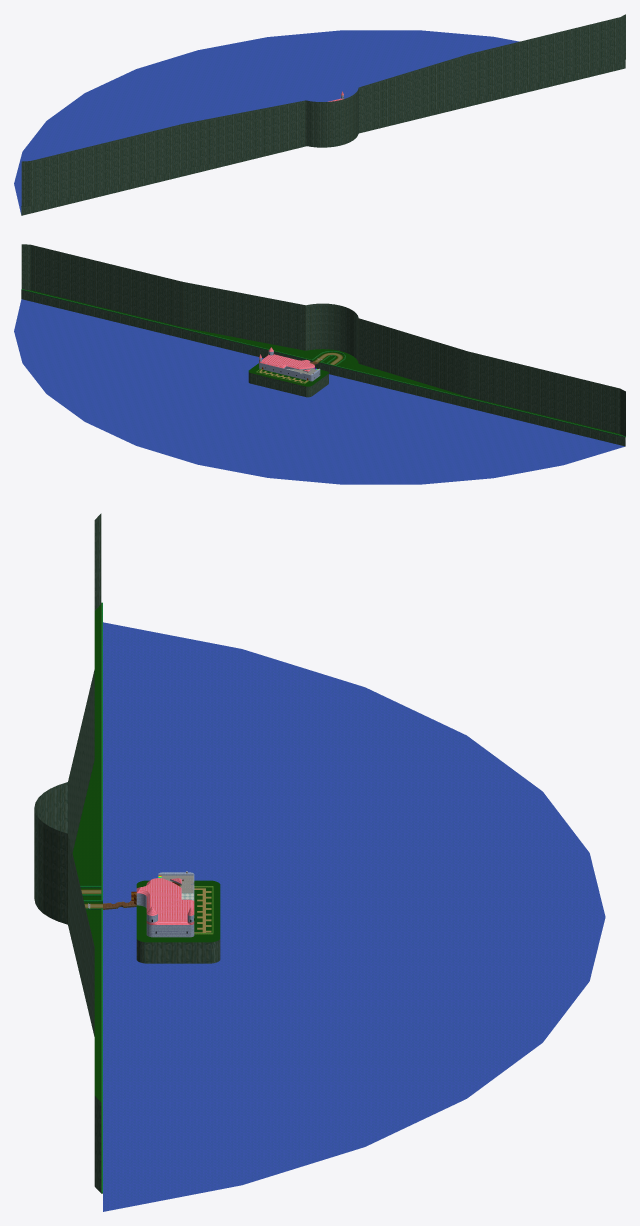
3 views of the same model, one above another, from view 1: azimuth 30°, elevation 25°; view 2: azimuth 150°, elevation 25°; view 3: azimuth 270°, elevation 25° (orthographic). The views are drawn at different scales.
Visible parts, largest first — view 1: Cliffview_Keep-SKP--Cliff_Wall.001, Cliffview_Keep-SKP--Water_Visual.001; view 2: Cliffview_Keep-SKP--Water_Visual.001, Cliffview_Keep-SKP--Cliff_Wall.001, Cliffview_Keep-SKP--Grass_Roadside.001, Cliffview_Keep-SKP--Bush_Wall.001, Cliffview_Keep-SKP--Castle_Roof.001, Cliffview_Keep-SKP--Castle_Wall.001; view 3: Cliffview_Keep-SKP--Water_Visual.001, Cliffview_Keep-SKP--Cliff_Wall.001, Cliffview_Keep-SKP--Grass_Roadside.001, Cliffview_Keep-SKP--Castle_Roof.001, Cliffview_Keep-SKP--Bush_Wall.001, Cliffview_Keep-SKP--Castle_Wall.001.
Part boxes in pixels (x1=…): Cliffview_Keep-SKP--Cliff_Wall.001: x1=21, y1=14, x2=625, y2=215; Cliffview_Keep-SKP--Water_Visual.001: x1=14, y1=30, x2=518, y2=214; Cliffview_Keep-SKP--Water_Visual.001: x1=14, y1=299, x2=624, y2=484; Cliffview_Keep-SKP--Cliff_Wall.001: x1=21, y1=244, x2=625, y2=446; Cliffview_Keep-SKP--Grass_Roadside.001: x1=27, y1=290, x2=622, y2=435; Cliffview_Keep-SKP--Bush_Wall.001: x1=21, y1=289, x2=625, y2=437; Cliffview_Keep-SKP--Castle_Roof.001: x1=259, y1=347, x2=314, y2=371; Cliffview_Keep-SKP--Castle_Wall.001: x1=259, y1=351, x2=320, y2=381; Cliffview_Keep-SKP--Water_Visual.001: x1=103, y1=622, x2=605, y2=1211; Cliffview_Keep-SKP--Cliff_Wall.001: x1=34, y1=513, x2=220, y2=1193; Cliffview_Keep-SKP--Grass_Roadside.001: x1=72, y1=604, x2=220, y2=1101; Cliffview_Keep-SKP--Castle_Roof.001: x1=136, y1=878, x2=194, y2=924; Cliffview_Keep-SKP--Bush_Wall.001: x1=80, y1=602, x2=213, y2=1193; Cliffview_Keep-SKP--Castle_Wall.001: x1=136, y1=872, x2=194, y2=937.
Size of the model in its own units: 416500 by 36000 by 170500.
24 materials, 24 textured.
